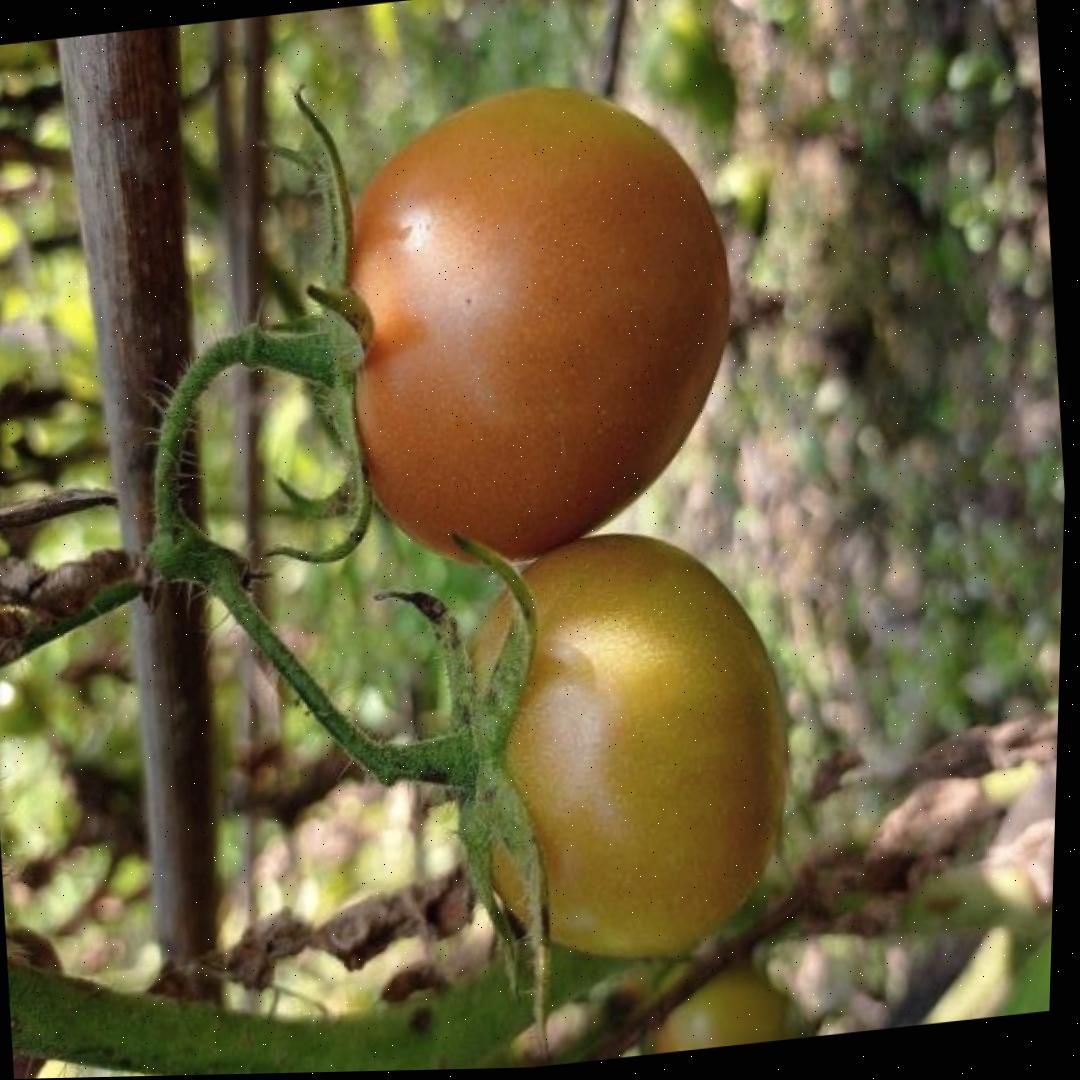setengah_matang: (296, 62, 762, 588), (417, 514, 814, 986)
